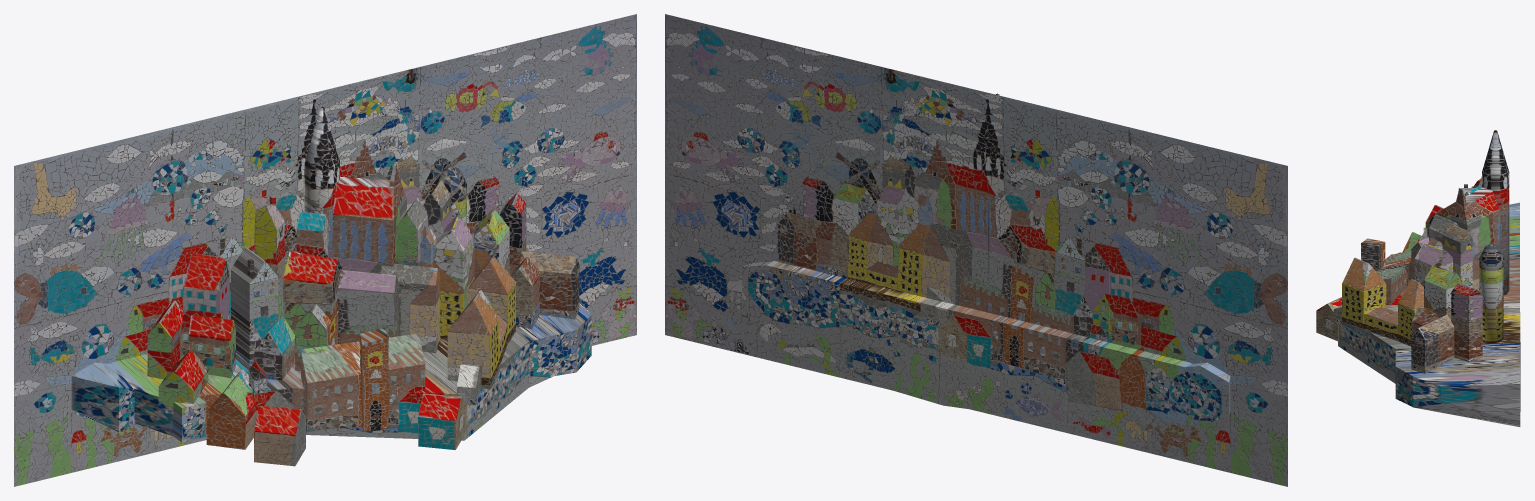
3 views of the same model, side by side, from view 1: azimuth 30°, elevation 25°; view 2: azimuth 150°, elevation 25°; view 3: azimuth 270°, elevation 25° (orthographic). The views are drawn at different scales.
Visible parts, largest first — view 1: city; view 2: city; view 3: city.
Boxes of the visible parts, x1,y1,x2,y2 form: city: (14, 14, 636, 486); city: (665, 14, 1287, 486); city: (1316, 130, 1520, 426).
Size of the model in its own units: 3.95 by 1.94 by 1.48.
1 material, 1 textured.
